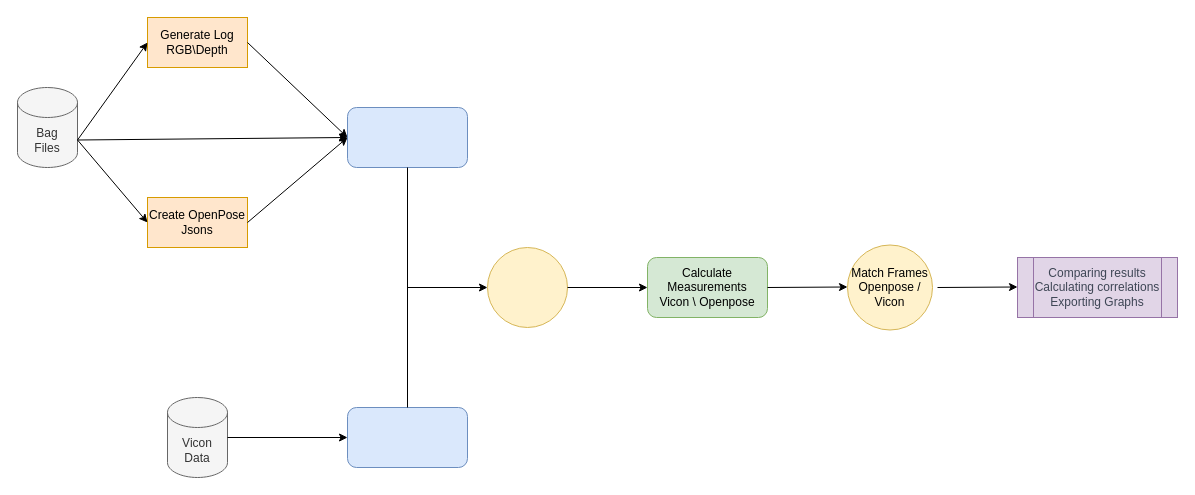
This 1195x495 diagram has some shape labels left out. Here are the shapes that lost their labels. From the top down, the box of each, then its label:
(346, 106, 468, 168): Create OpenPose Skeletons
(486, 246, 568, 328): Sync Timestamps
(346, 406, 468, 468): Create Vicon Skeletons
